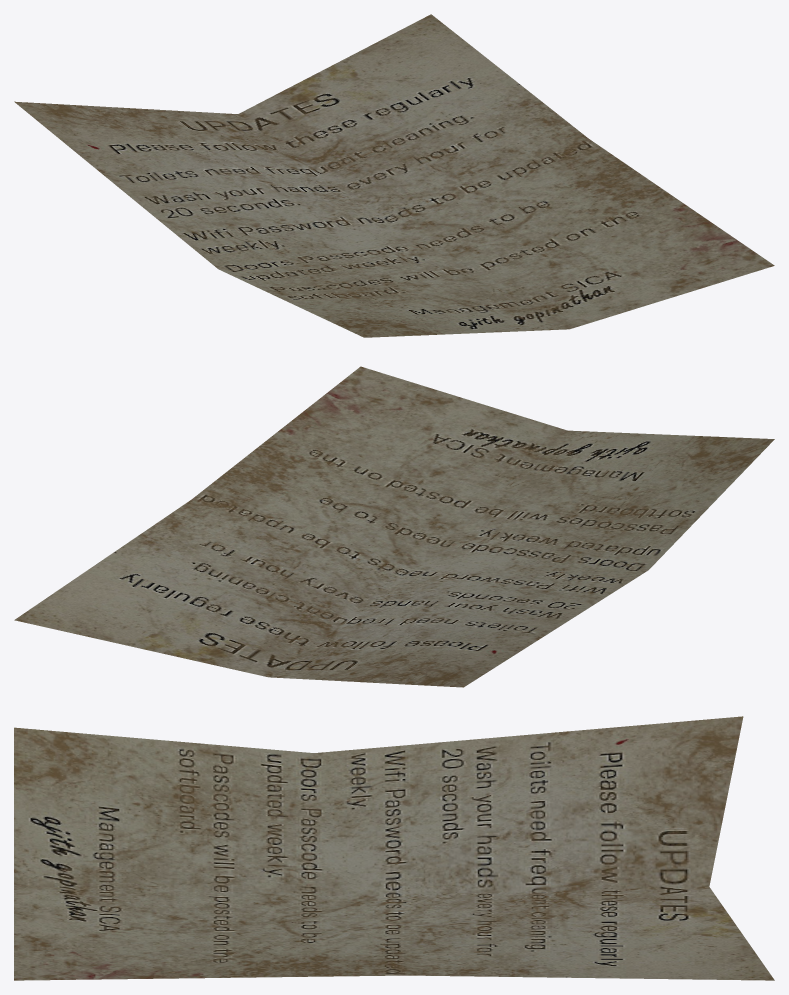
Rendered from UpdateSheet.FBX.
The picture shows the model from 3 angles, top to bottom: view 1: azimuth 30°, elevation 25°; view 2: azimuth 150°, elevation 25°; view 3: azimuth 270°, elevation 25°; orthographic projection. The views are drawn at different scales.
Visible parts, largest first — view 1: UpdateSheet; view 2: UpdateSheet; view 3: UpdateSheet.
Part boxes in pixels (x1,y1,x2,y2): UpdateSheet: (14,14,774,337); UpdateSheet: (14,366,774,687); UpdateSheet: (14,716,774,980).
Size of the model in its own units: 28.09 by 3.47 by 38.75.
